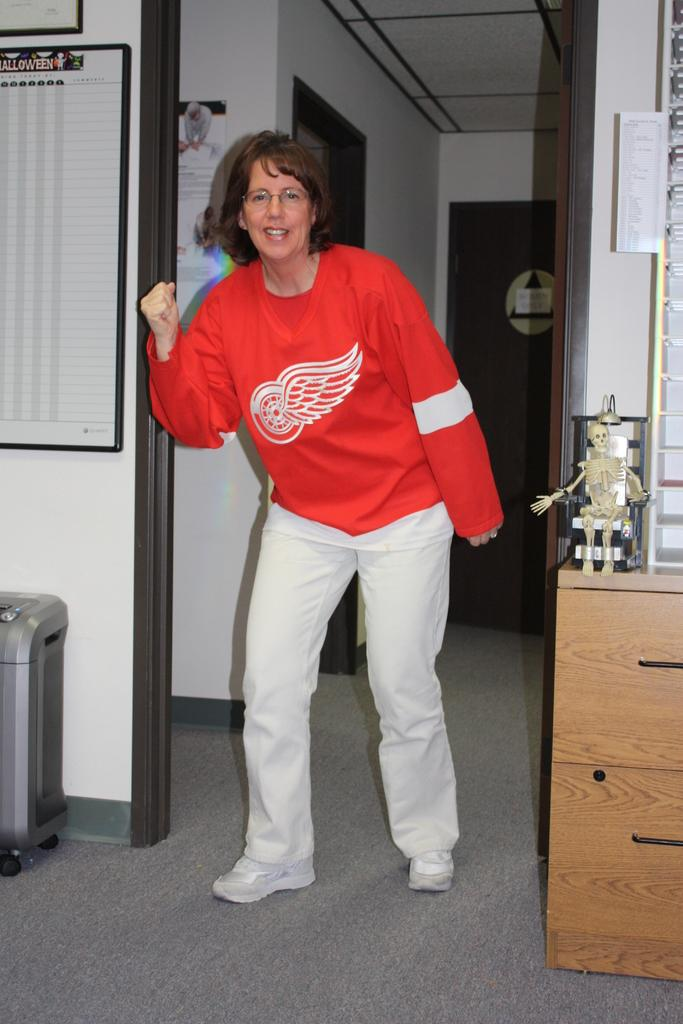Pessoa: (141, 131, 502, 901), (179, 101, 211, 152)
